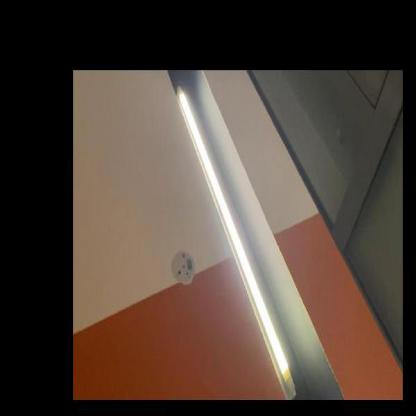light_on: (169, 79, 299, 400)
